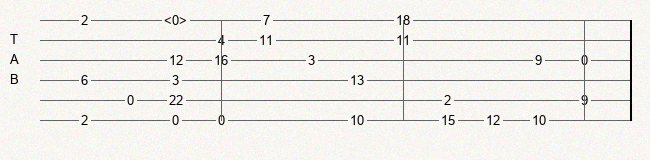0: (127, 93, 138, 107), (172, 113, 183, 127), (218, 113, 229, 127), (581, 53, 592, 67)
10: (350, 113, 368, 127), (532, 113, 550, 127)
11: (259, 33, 277, 47), (396, 33, 414, 47)
12: (169, 53, 187, 67), (486, 113, 504, 127)
13: (350, 73, 368, 87)
15: (441, 113, 459, 127)
16: (214, 53, 232, 67)
18: (396, 13, 414, 27)
2: (81, 113, 92, 127), (81, 13, 92, 27), (444, 93, 455, 107)
22: (169, 93, 187, 107)
3: (172, 73, 183, 87), (308, 53, 319, 67)
4: (218, 33, 229, 47)
6: (81, 73, 92, 87)
7: (263, 13, 274, 27)
9: (535, 53, 546, 67), (581, 93, 592, 107)
harmonic: (164, 13, 191, 27)
